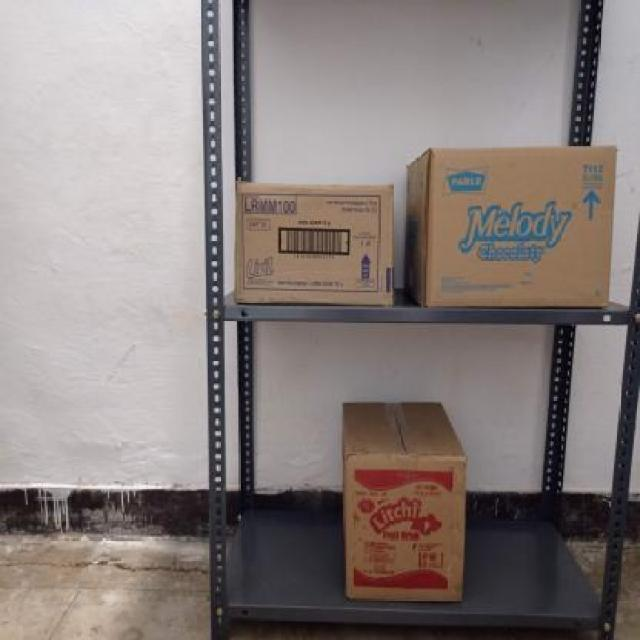box: (424, 145, 613, 311), (233, 180, 396, 309), (347, 451, 465, 604)
